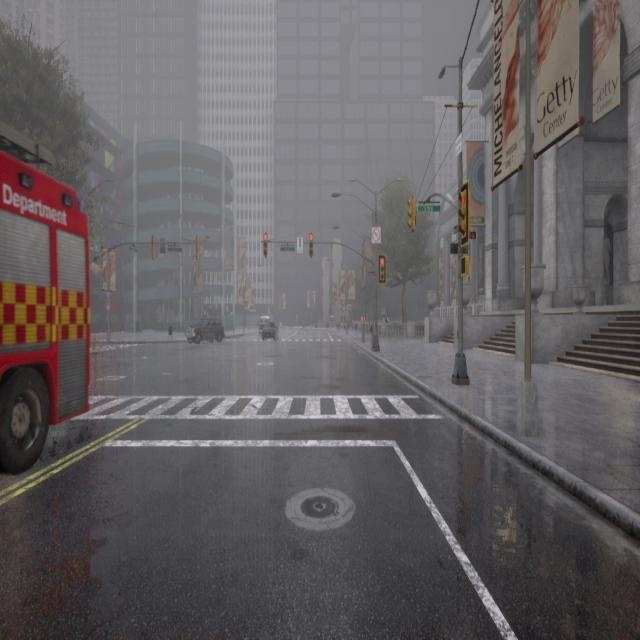bien_chi_dan: (454, 179, 474, 283), (402, 188, 422, 246), (374, 247, 392, 290), (257, 222, 273, 264), (304, 228, 319, 262), (368, 226, 384, 246), (456, 186, 468, 206), (406, 194, 416, 212), (378, 252, 386, 267), (308, 230, 316, 244), (260, 231, 269, 241)
